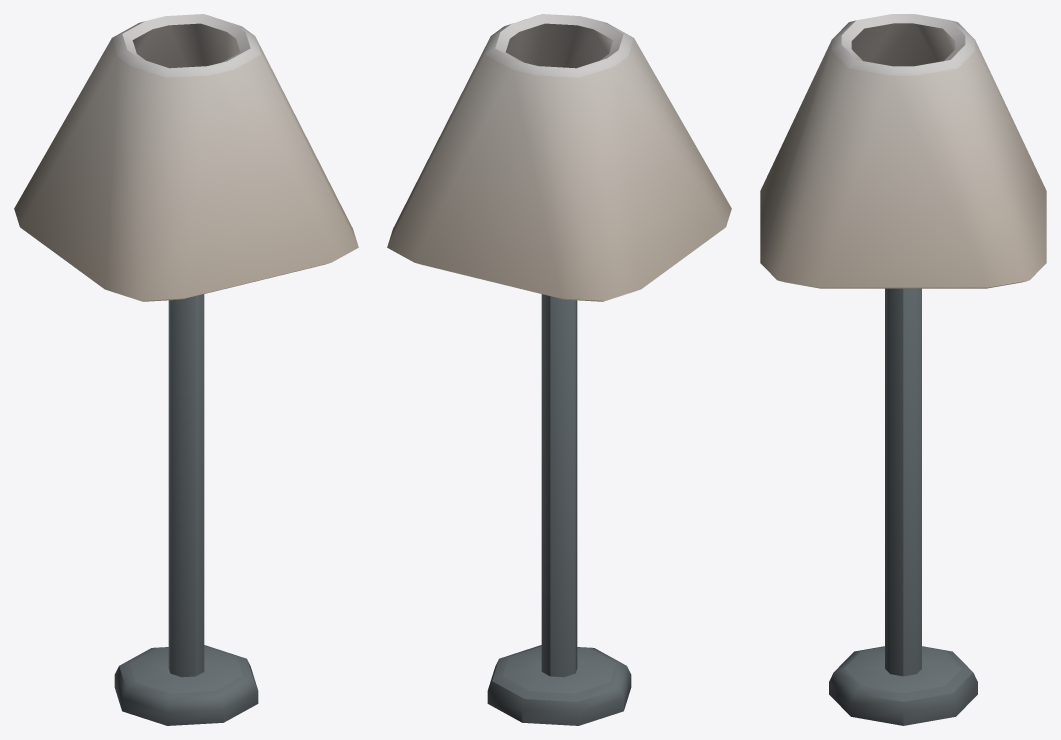
File: K_lamp_standing.glb
The picture shows the model from 3 angles, left to right: view 1: azimuth 30°, elevation 25°; view 2: azimuth 150°, elevation 25°; view 3: azimuth 270°, elevation 25°; orthographic projection.
Visible parts, largest first — view 1: lamp_standing; view 2: lamp_standing; view 3: lamp_standing.
Part boxes in pixels (box(x1,y1,x2,y2)): lamp_standing: box(14, 14, 358, 725); lamp_standing: box(387, 14, 731, 725); lamp_standing: box(760, 14, 1046, 725).
Size of the model in its own units: 1 by 2.52 by 1.
